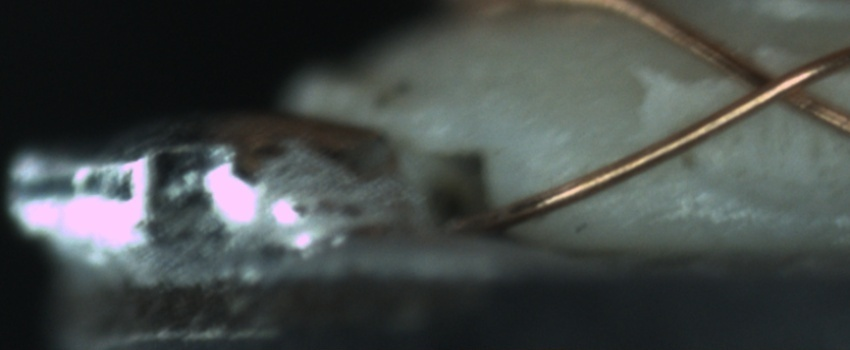CL: (721, 49, 831, 119)
